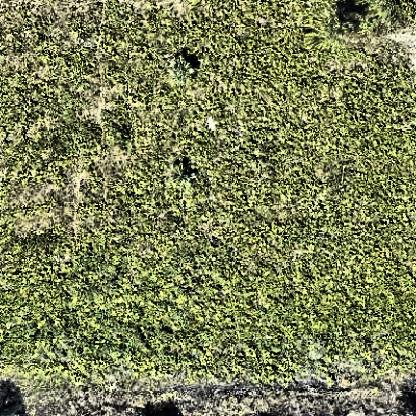tree-top: (310, 3, 365, 58), (170, 156, 200, 186), (169, 54, 195, 83)
